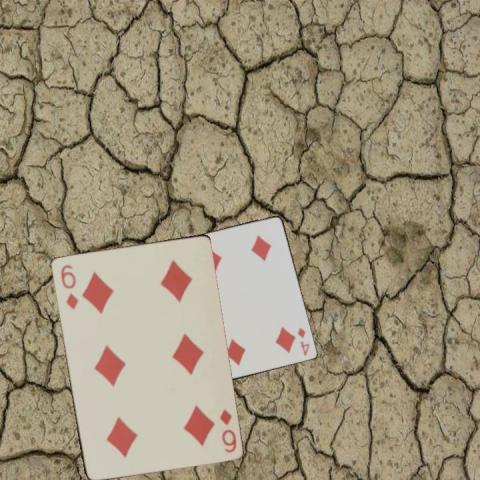4d: (294, 325, 311, 357)
6d: (57, 261, 80, 311), (216, 405, 237, 454)
